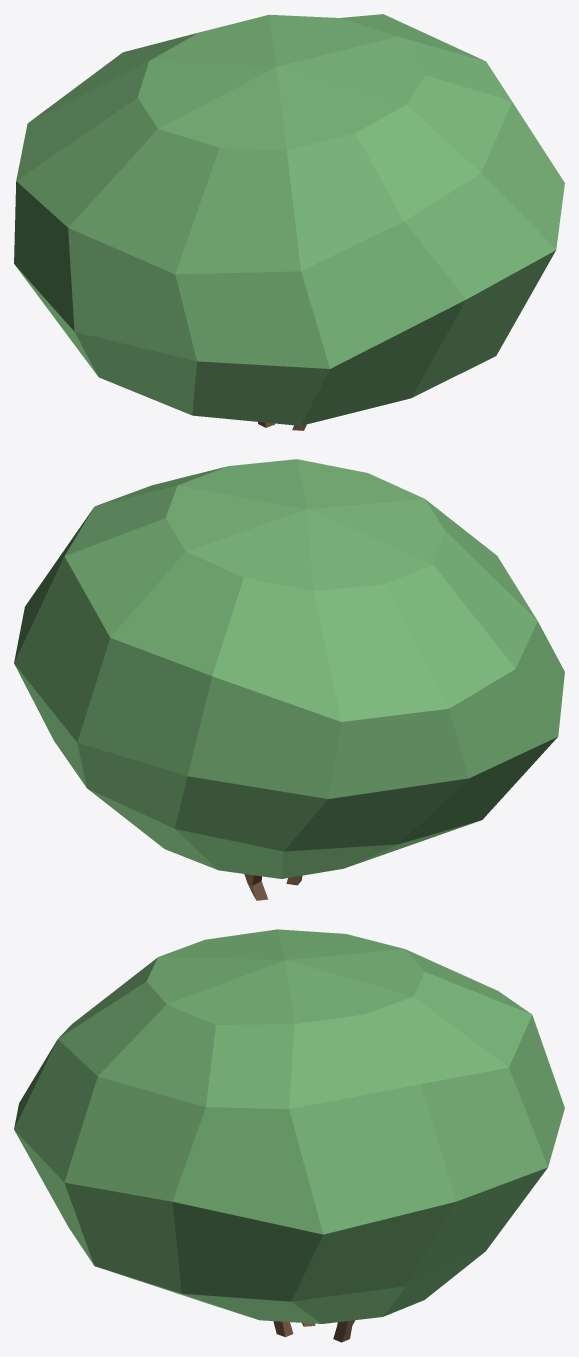
Rendered from Bushes_bush_01.002.fbx.
3 renders of one model, top to bottom at view 1: azimuth 30°, elevation 25°; view 2: azimuth 150°, elevation 25°; view 3: azimuth 270°, elevation 25°, orthographic.
Parts seen in each view (by area): view 1: Bushes_bush_01.002; view 2: Bushes_bush_01.002; view 3: Bushes_bush_01.002.
Boxes of the visible parts, box(x1,y1,x2,y2) form: Bushes_bush_01.002: box(14, 14, 564, 430); Bushes_bush_01.002: box(14, 459, 564, 900); Bushes_bush_01.002: box(14, 929, 564, 1342).
Size of the model in its own units: 89.73 by 65.19 by 87.93.
